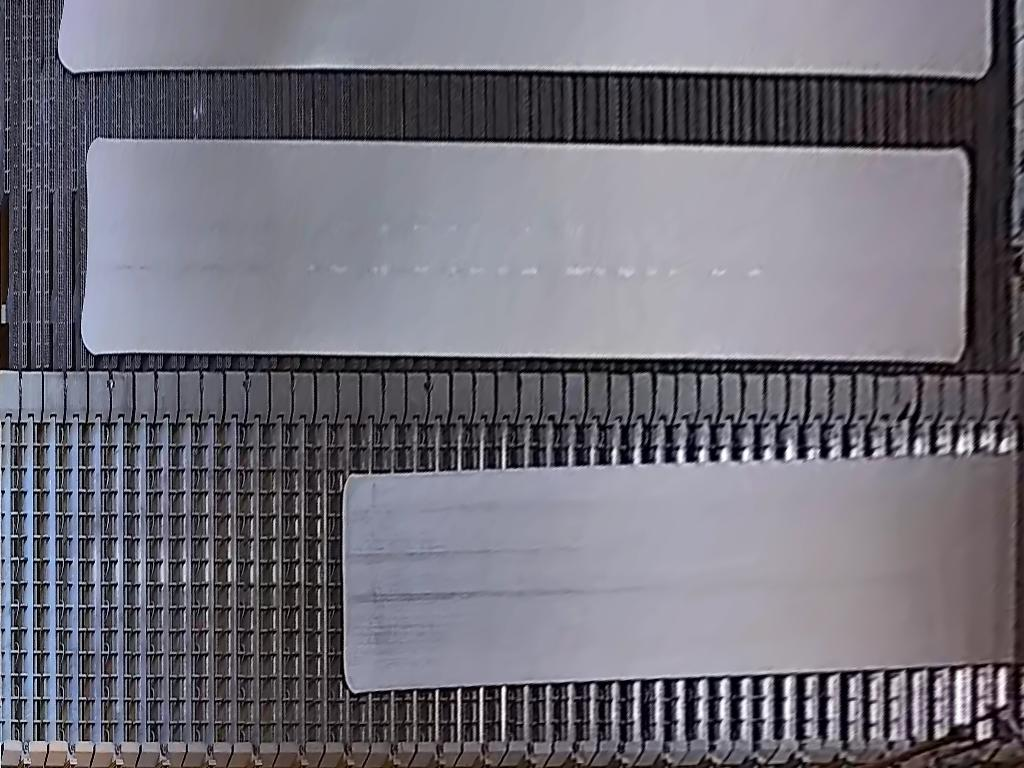steel: (81, 137, 968, 364), (340, 454, 1024, 696), (57, 1, 995, 79)
